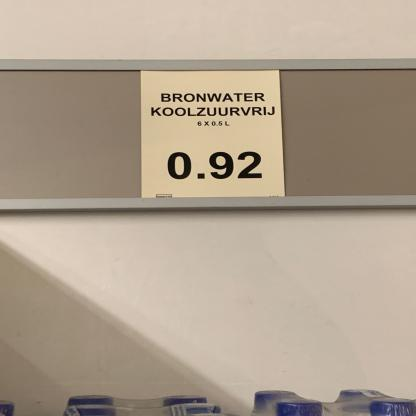prtg: (141, 71, 286, 199)
